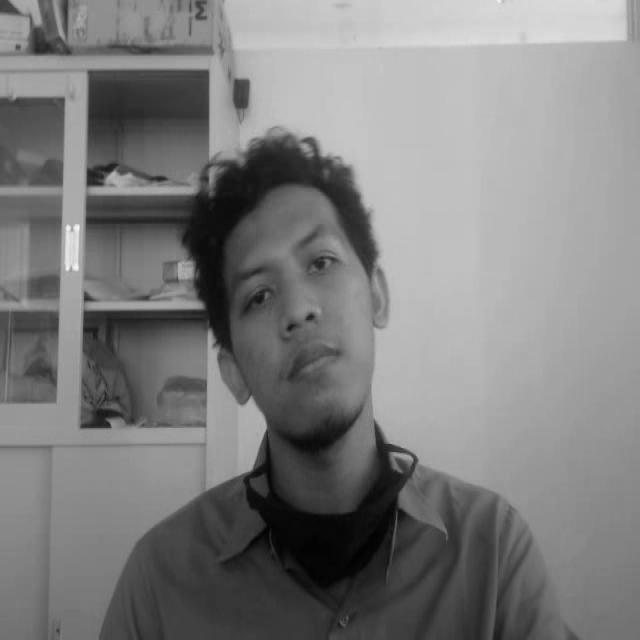real: (179, 116, 398, 455)
